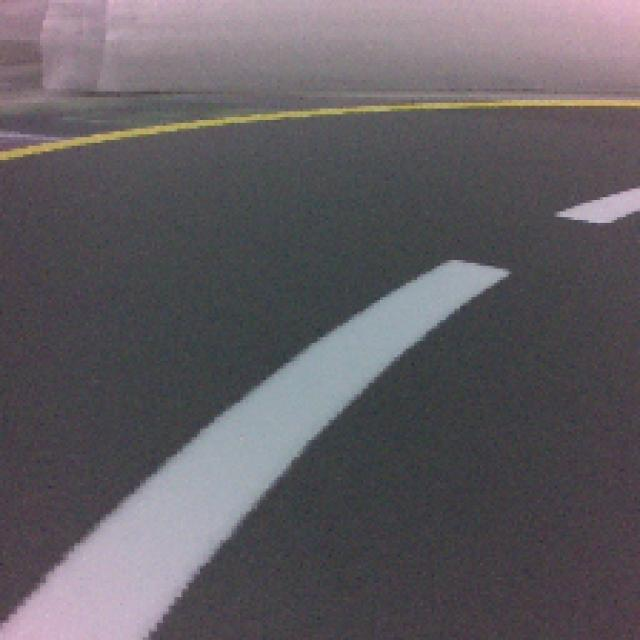Guard rail: (0, 256, 507, 640)
